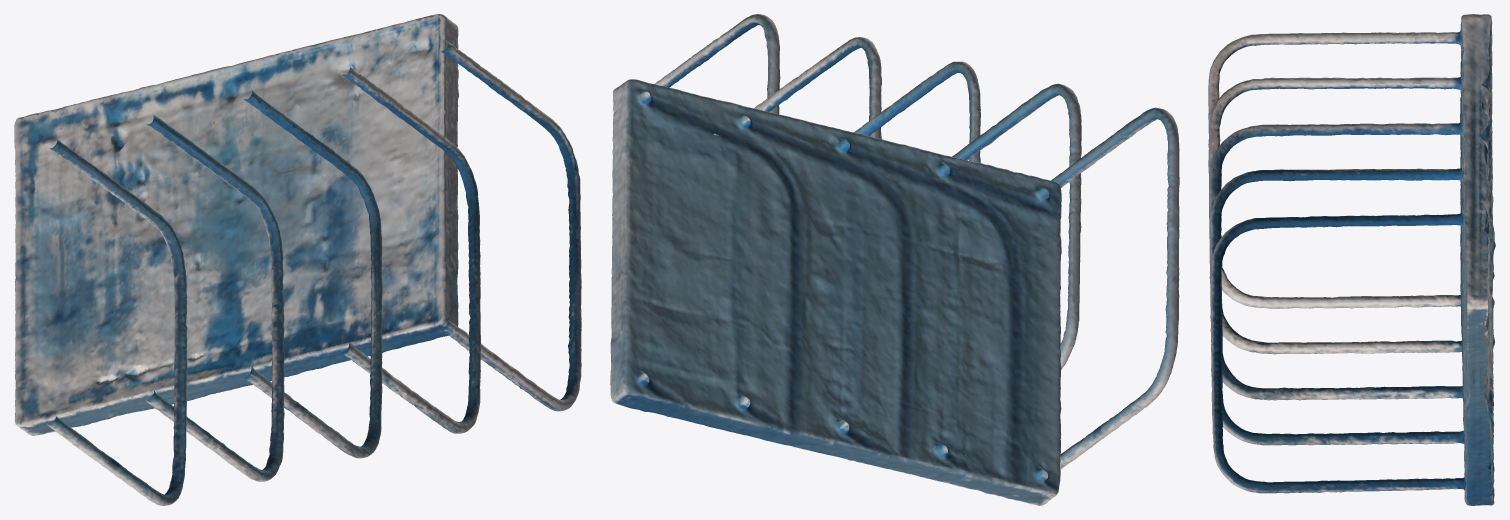
File: sorter.glb
3 views of the same model, side by side, from view 1: azimuth 30°, elevation 25°; view 2: azimuth 150°, elevation 25°; view 3: azimuth 270°, elevation 25° (orthographic). The views are drawn at different scales.
Size of the model in its own units: 1 by 0.6995 by 0.6054.
